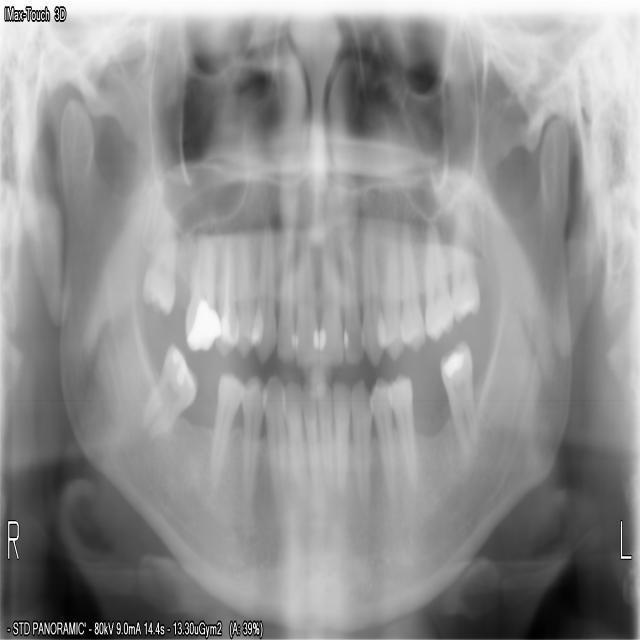LCD: (346, 371, 375, 524)
LCU: (355, 204, 386, 371)
LID: (329, 372, 350, 506)
LIU: (336, 200, 363, 368), (316, 205, 343, 369)
LMD: (435, 331, 480, 467)
LMU: (420, 215, 454, 344), (448, 207, 481, 326)
LPMD: (365, 368, 394, 520), (383, 364, 416, 497)
LPMU: (371, 211, 405, 365), (395, 209, 427, 357)
RCD: (257, 367, 286, 541)
RCU: (245, 207, 276, 371)
RID: (277, 377, 302, 518), (297, 371, 317, 499)
RIU: (291, 209, 317, 369), (272, 218, 294, 366)
RMD: (137, 337, 197, 439)
RMU: (179, 203, 221, 356), (137, 209, 178, 319)
RPMD: (205, 363, 245, 497), (236, 366, 266, 518)
